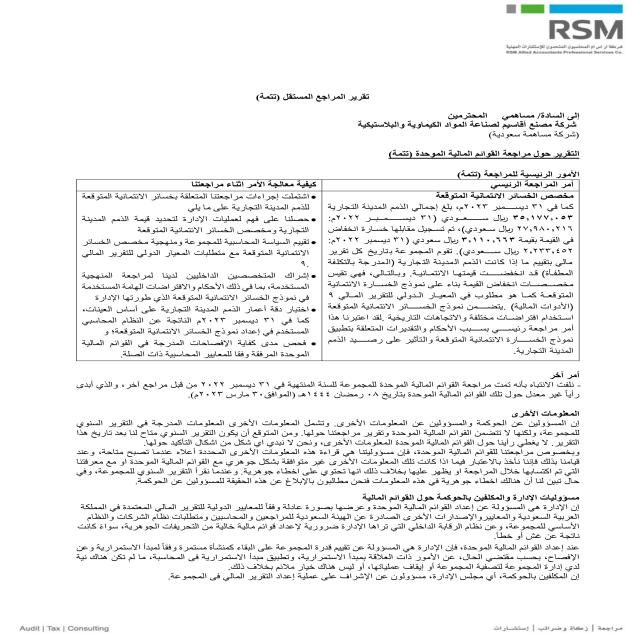auditor_report: (382, 148, 586, 164), (237, 90, 379, 105), (446, 168, 590, 181)
